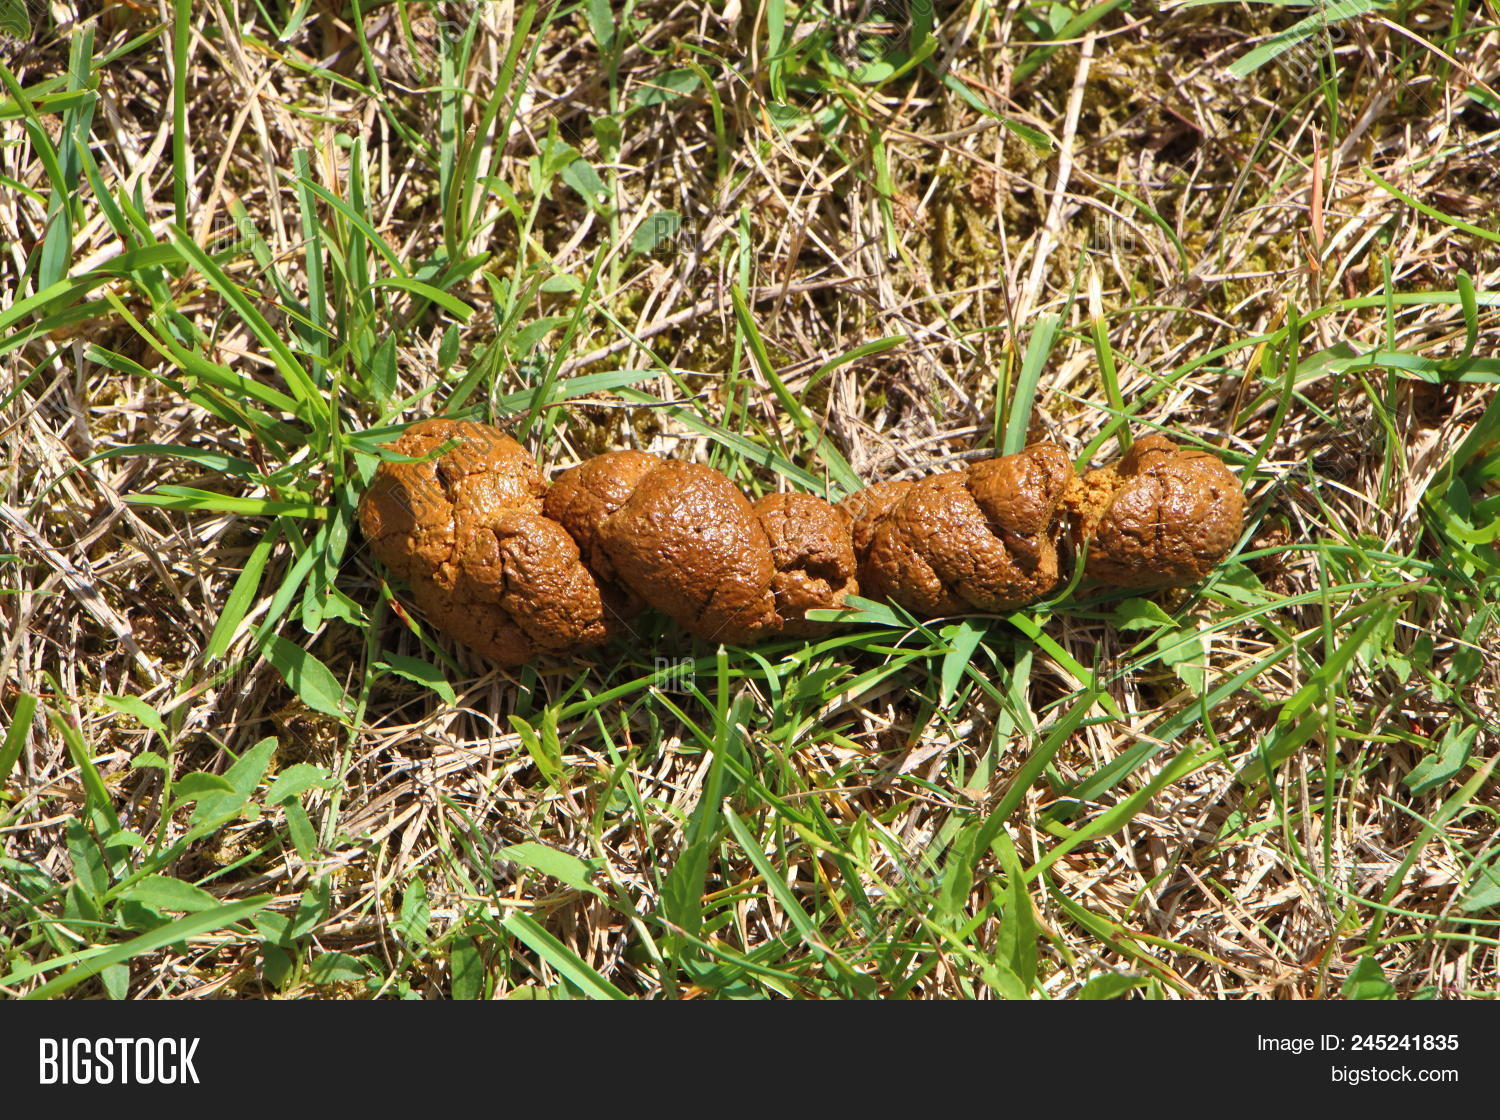Dog: (373, 416, 1231, 646)
